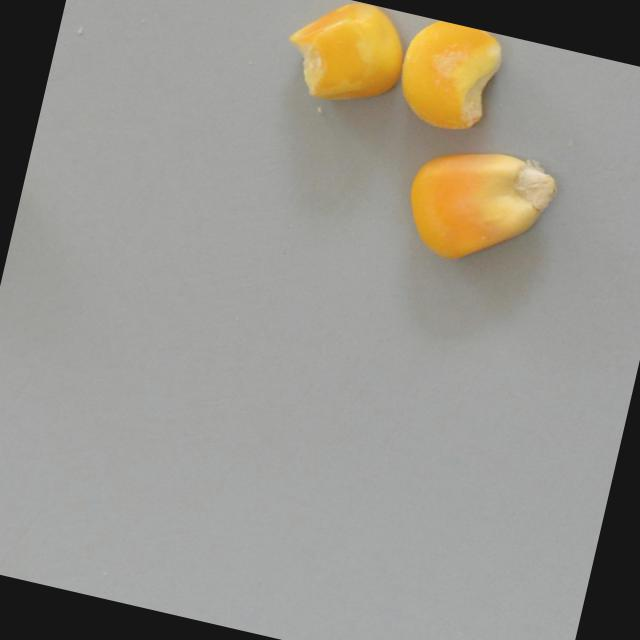entero: (393, 127, 567, 283)
pelicula: (274, 0, 414, 117), (388, 13, 508, 140)
